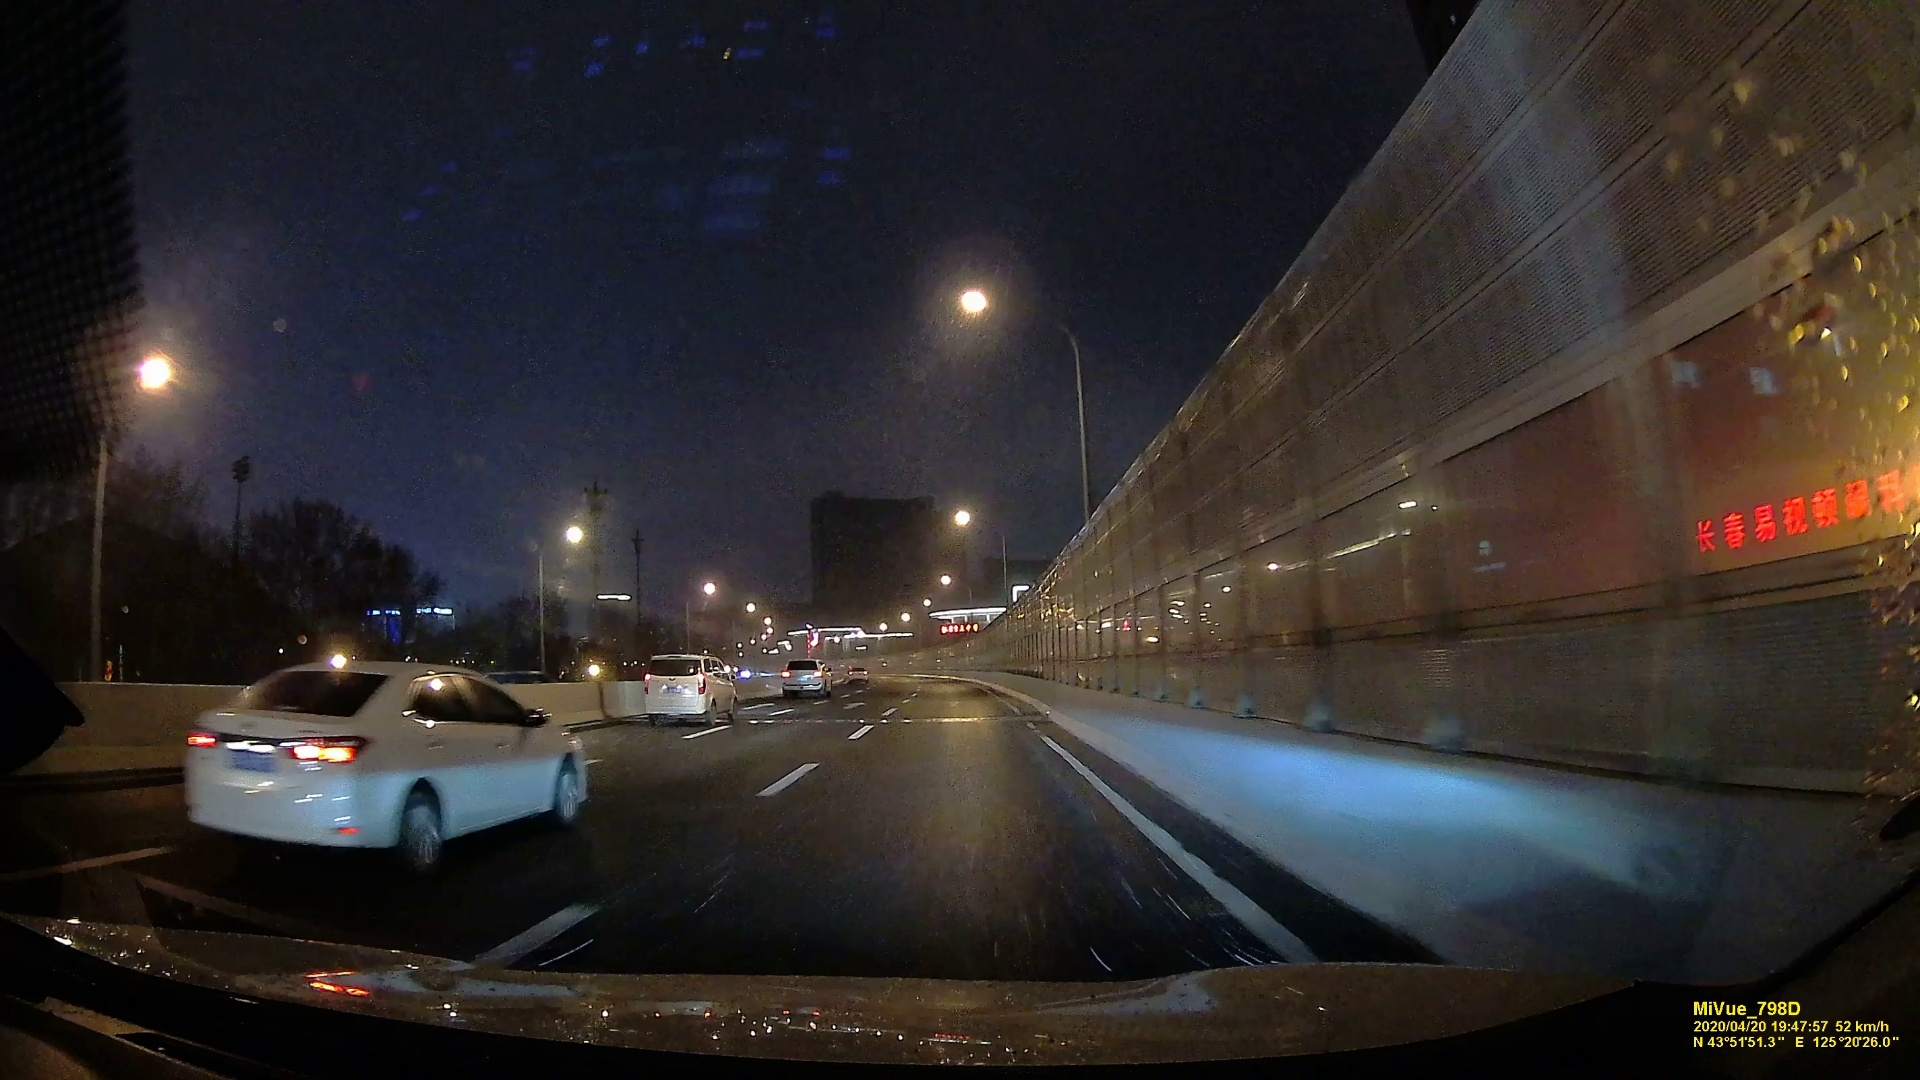minibus: (638, 655, 742, 728)
vehicle: (171, 655, 588, 874), (782, 658, 832, 698), (847, 666, 869, 683)
